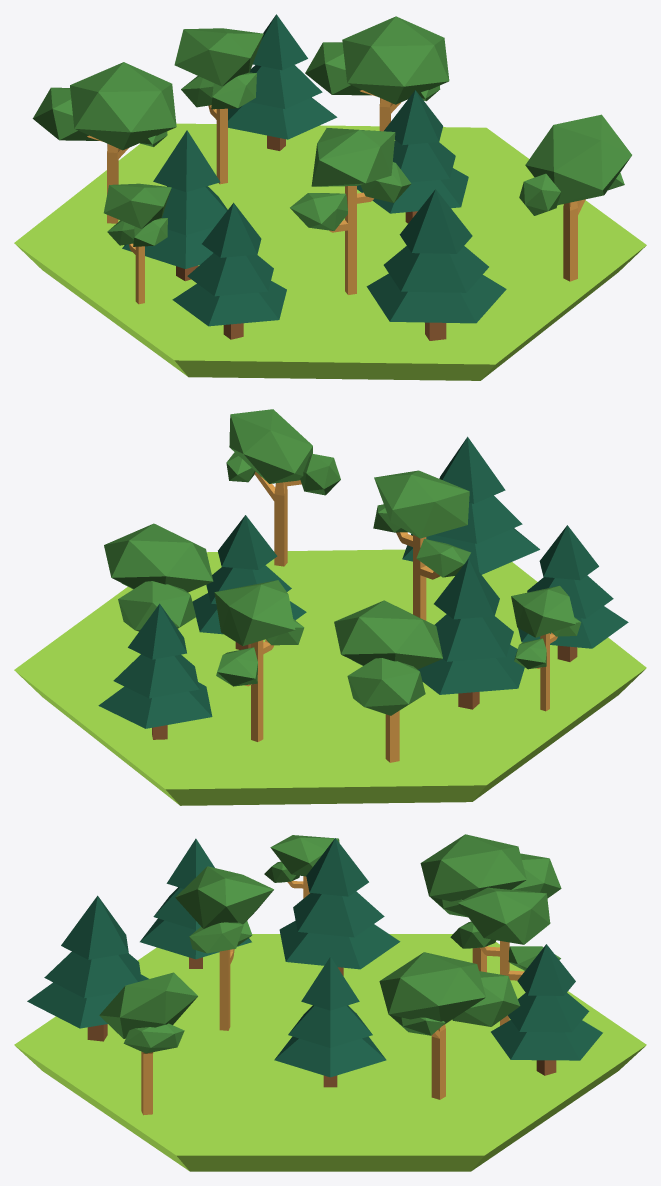
Rendered from G_F_mix_3.fbx.
The picture shows the model from 3 angles, top to bottom: view 1: azimuth 30°, elevation 25°; view 2: azimuth 150°, elevation 25°; view 3: azimuth 270°, elevation 25°; orthographic projection. The views are drawn at different scales.
Visible parts, largest first — view 1: G_F_mix; view 2: G_F_mix; view 3: G_F_mix.
Part boxes in pixels (x1,y1,x2,y2): G_F_mix: (14, 14, 646, 380); G_F_mix: (14, 409, 646, 805); G_F_mix: (14, 834, 646, 1171).
Size of the model in its own units: 3165 by 1201 by 3822.
